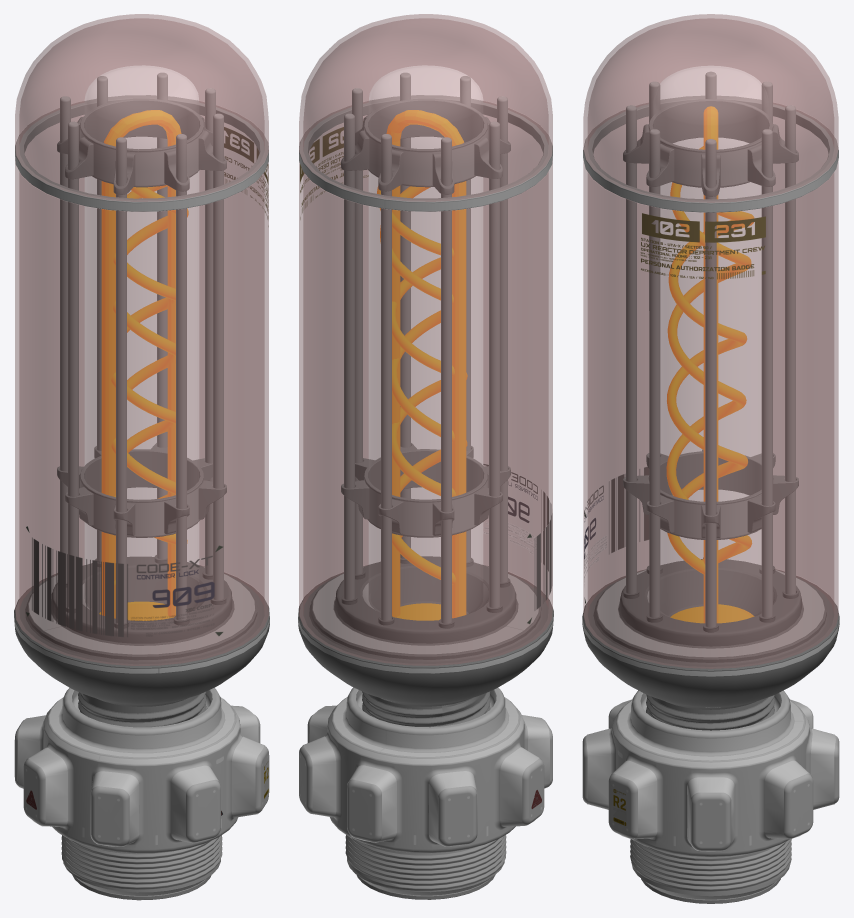
File: light.glb
3 views of the same model, side by side, from view 1: azimuth 30°, elevation 25°; view 2: azimuth 150°, elevation 25°; view 3: azimuth 270°, elevation 25° (orthographic).
Parts seen in each view (by area): view 1: Glass_1_22, Bulb.003_19, Bulb.001_15, Bulb.004_29, Light_36, Bulb.005_31, Decals_Normal.005_5, Decals_Info.004_20, Bulb.002_16, Bulb.007_34, Decals_Normal.007_30, Decals_Normal.003_26 (+8 smaller); view 2: Glass_1_22, Bulb.003_19, Bulb.004_29, Bulb.001_15, Light_36, Bulb.005_31, Decals_Normal.005_5, Bulb.002_16, Bulb.007_34, Decals_Normal.007_30, Decals_Normal.003_26, Bulb.008_35 (+9 smaller); view 3: Glass_1_22, Bulb.003_19, Bulb.004_29, Bulb.001_15, Bulb.005_31, Light_36, Decals_Normal.005_5, Bulb.002_16, Bulb.007_34, Decals_Normal.003_26, Decals_Normal.007_30, Decals_Info_21 (+9 smaller).
Boxes of the visible parts, x1,y1,x2,y2 form: Glass_1_22: [15, 14, 268, 665]; Bulb.003_19: [60, 73, 223, 623]; Bulb.001_15: [14, 687, 269, 895]; Bulb.004_29: [14, 557, 269, 706]; Light_36: [102, 110, 188, 618]; Bulb.005_31: [57, 99, 226, 537]; Decals_Normal.005_5: [18, 705, 264, 846]; Decals_Info.004_20: [26, 526, 222, 637]; Bulb.002_16: [61, 835, 222, 892]; Bulb.007_34: [15, 95, 268, 211]; Decals_Normal.007_30: [80, 125, 203, 536]; Decals_Normal.003_26: [29, 567, 254, 654]; Glass_1_22: [299, 14, 552, 665]; Bulb.003_19: [344, 73, 507, 623]; Bulb.004_29: [298, 556, 553, 706]; Bulb.001_15: [299, 687, 552, 895]; Light_36: [377, 110, 467, 617]; Bulb.005_31: [341, 99, 510, 537]; Decals_Normal.005_5: [302, 705, 549, 846]; Bulb.002_16: [345, 835, 506, 892]; Bulb.007_34: [299, 95, 552, 211]; Decals_Normal.007_30: [364, 125, 487, 536]; Decals_Normal.003_26: [313, 566, 538, 654]; Bulb.008_35: [362, 691, 490, 727]; Glass_1_22: [583, 14, 838, 668]; Bulb.003_19: [626, 72, 795, 627]; Bulb.004_29: [582, 559, 839, 709]; Bulb.001_15: [582, 690, 839, 899]; Bulb.005_31: [623, 99, 798, 539]; Light_36: [666, 106, 753, 622]; Decals_Normal.005_5: [586, 699, 835, 851]; Bulb.002_16: [630, 839, 791, 896]; Bulb.007_34: [583, 96, 838, 212]; Decals_Normal.003_26: [597, 570, 824, 657]; Decals_Normal.007_30: [648, 128, 773, 538]; Decals_Info_21: [640, 213, 765, 279].
Size of the model in its own units: 0.8385 by 3.05 by 0.8385.
11 materials, 2 textured.
